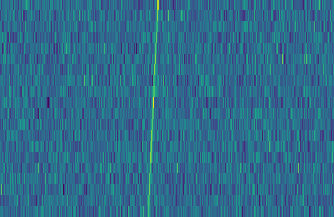signal: (143, 0, 163, 217)
